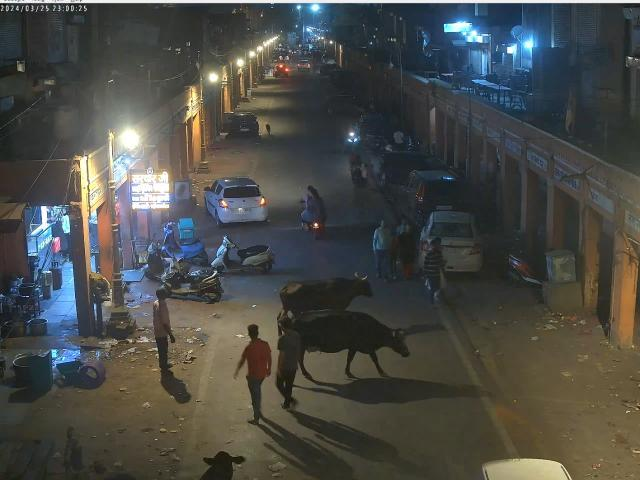car: (420, 209, 485, 274), (394, 169, 464, 224), (204, 177, 268, 226)
cattle: (286, 309, 411, 380), (276, 271, 374, 310), (196, 450, 246, 480)
license_plate: (443, 248, 461, 254), (437, 205, 452, 210), (237, 208, 252, 212)
person: (233, 324, 272, 423), (276, 317, 300, 409), (152, 288, 178, 372), (423, 239, 442, 308), (373, 220, 391, 280), (398, 222, 413, 280)
scooty: (160, 259, 223, 303), (211, 234, 275, 276), (162, 223, 206, 264), (141, 243, 190, 276)
